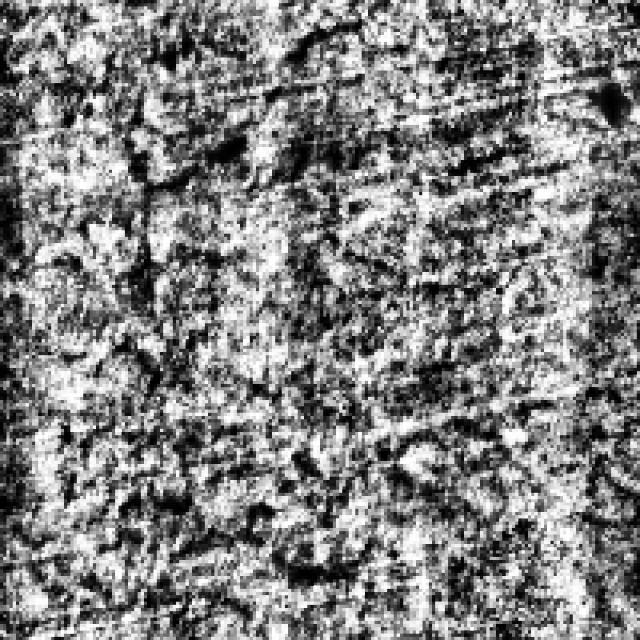Pitted_Surface: (108, 374, 628, 582), (109, 10, 394, 198)
